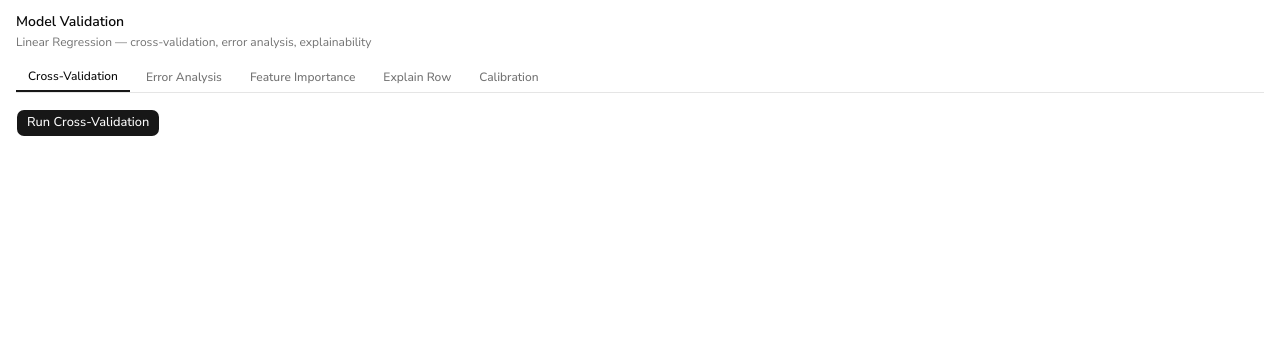
Test: ValidationPanel — feature importance tab › shows importance chart after loading (chart renders without crashing)
Click the tab "Feature Importance": x=303, y=77 x1=238 y1=62 x2=367 y2=92
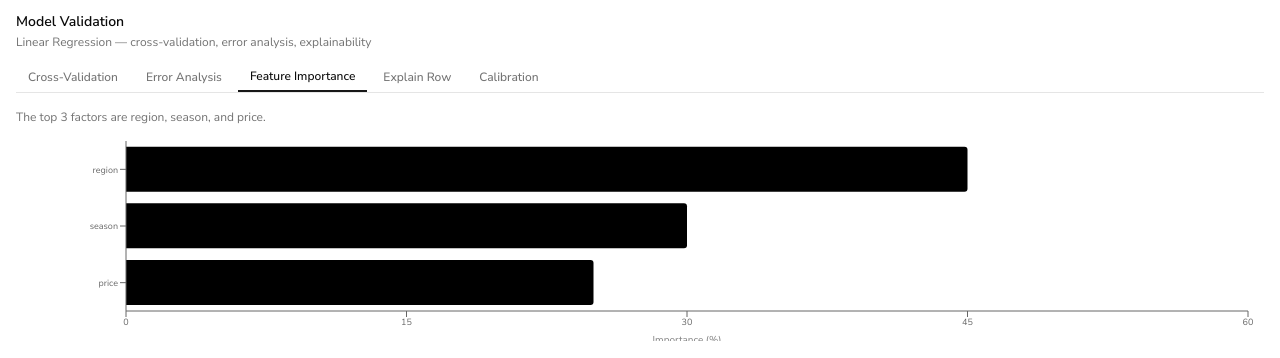
Expected: the text "The top 3 factors are region, season, and price." is shown, x1=16 y1=109 x2=266 y2=125
Expected: the element with class "recharts-responsive-container" is shown, x1=16 y1=141 x2=1264 y2=341
